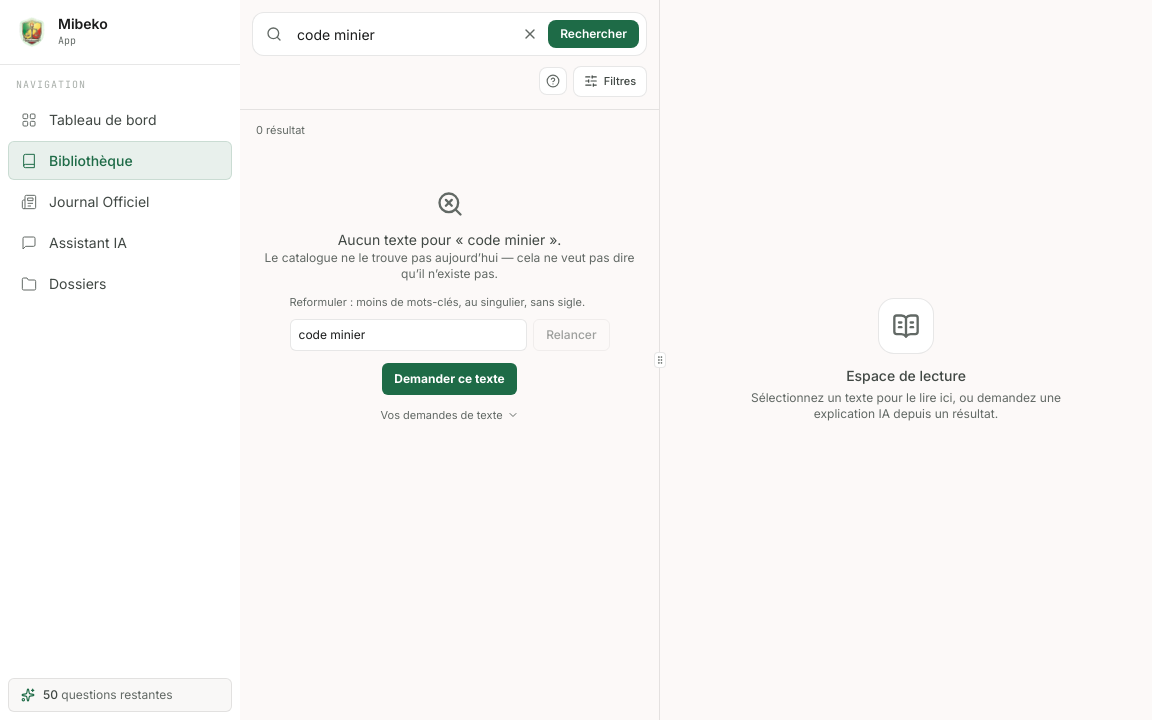
Library — sortie utile sur recherche vide (front#34) › envoie une demande de texte manquant et affiche l'accusé de réception
This screenshot has width=1152, height=720.
Click the button "Demander ce texte" at (450, 378), box [382,362,517,394]
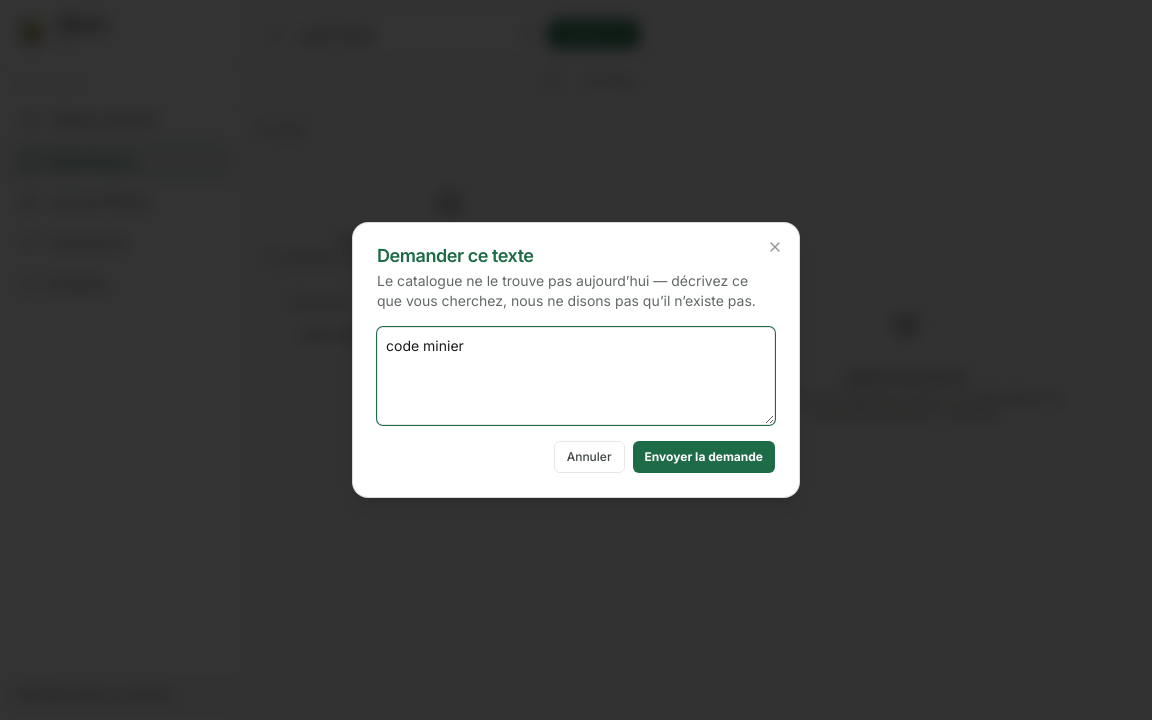
Click the button "Envoyer la demande" at (704, 457), box [633,441,775,473]
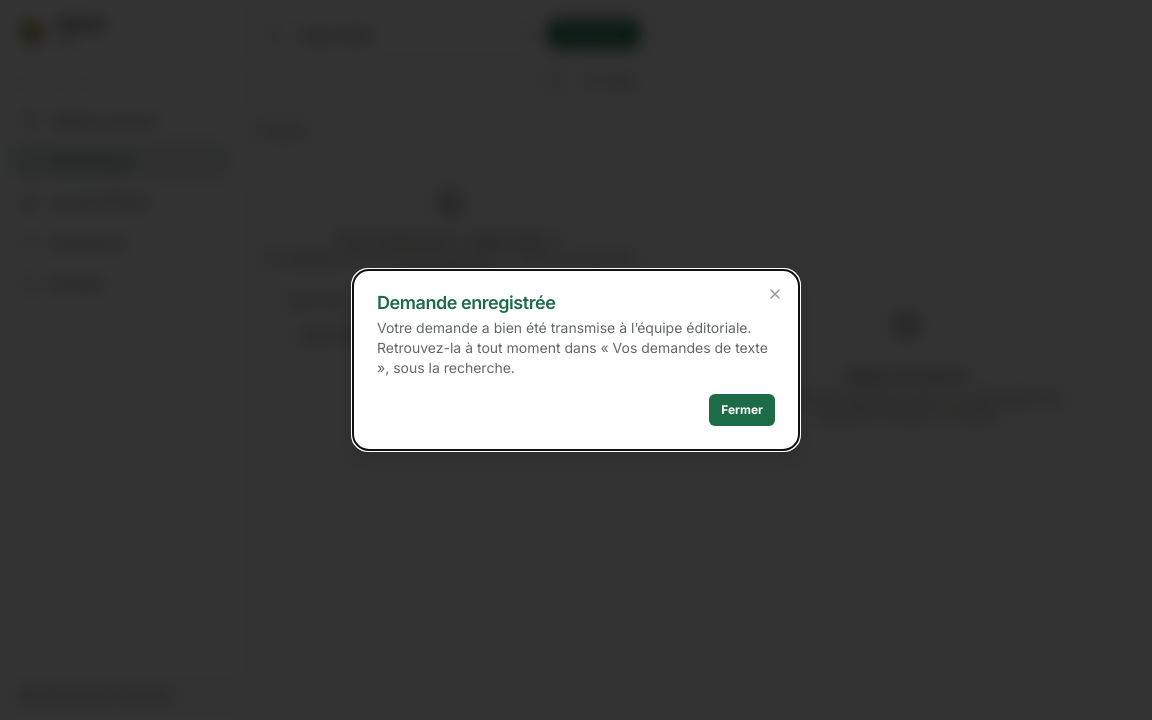
Check: the heading "Demande enregistrée" is shown, box [377,292,555,313]
